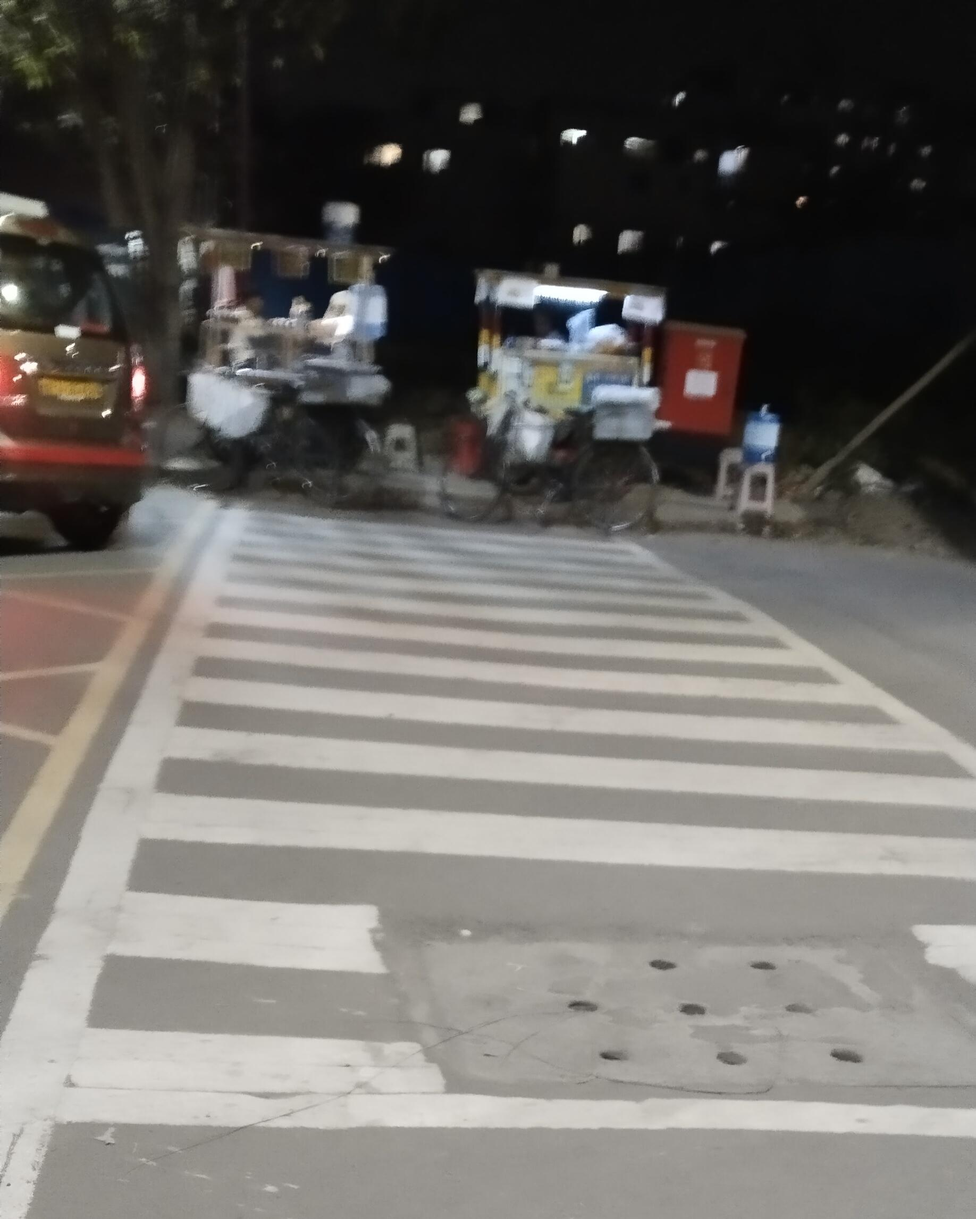crosswalk: (19, 503, 975, 1218)
